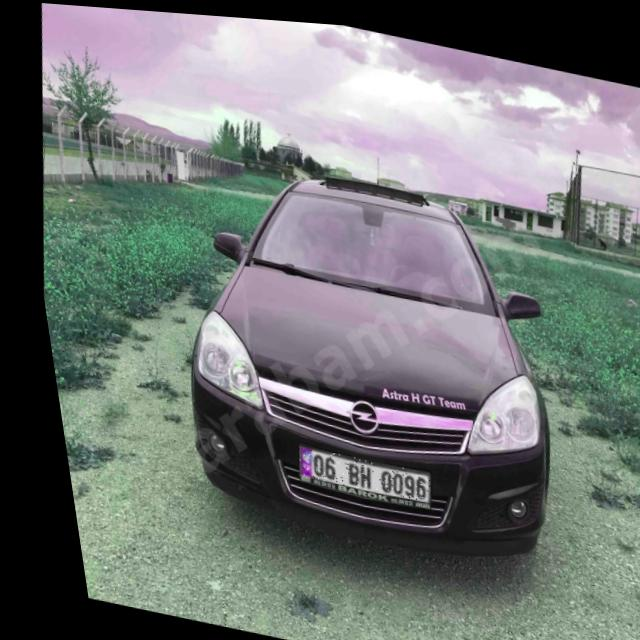license_plate: (282, 442, 420, 498)
